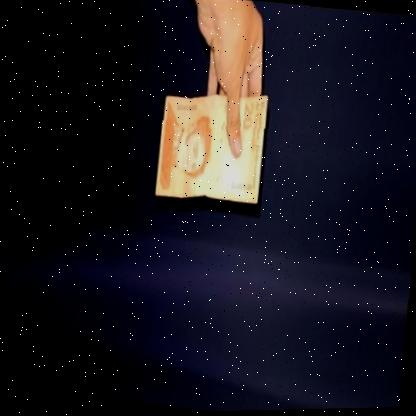twenty-front-vef: (152, 85, 268, 207)
